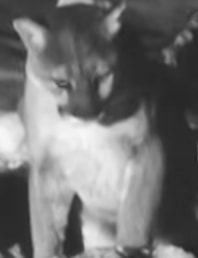Mountain Lion: (9, 8, 173, 258)
